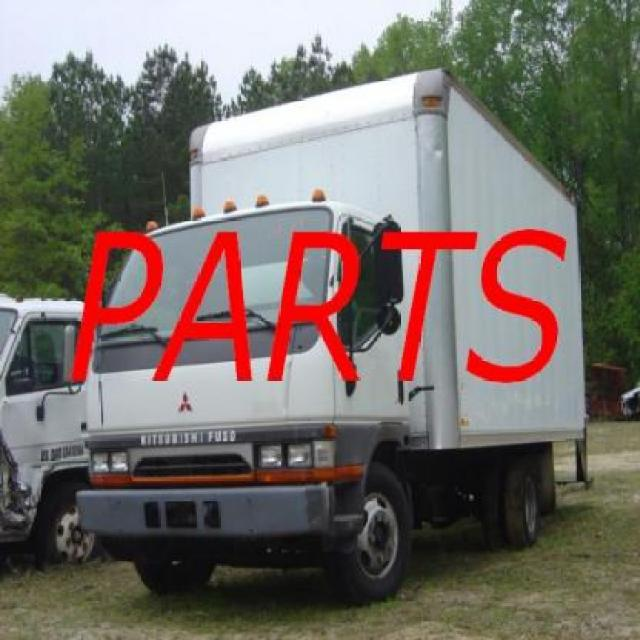truck: (80, 68, 587, 597)
